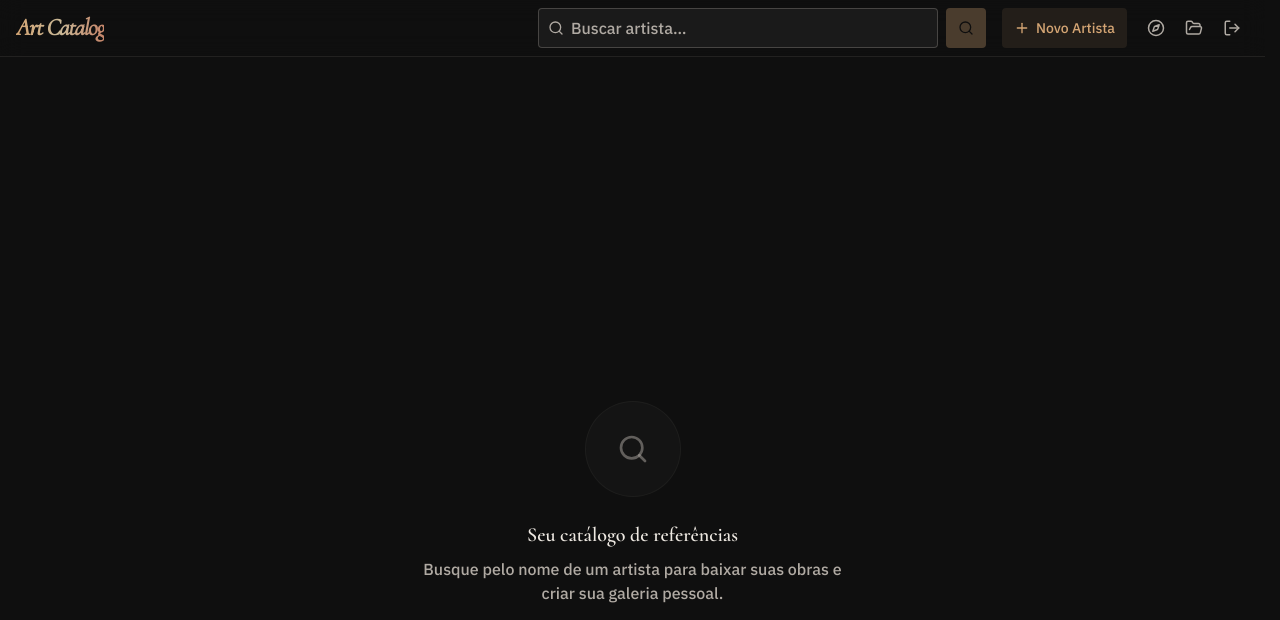
SearchPage › shows error state when search fails
The width and height of the screenshot is (1280, 620).
In the field with placeholder "Buscar artista…": (738, 28) [538,8,938,48], type "Test"
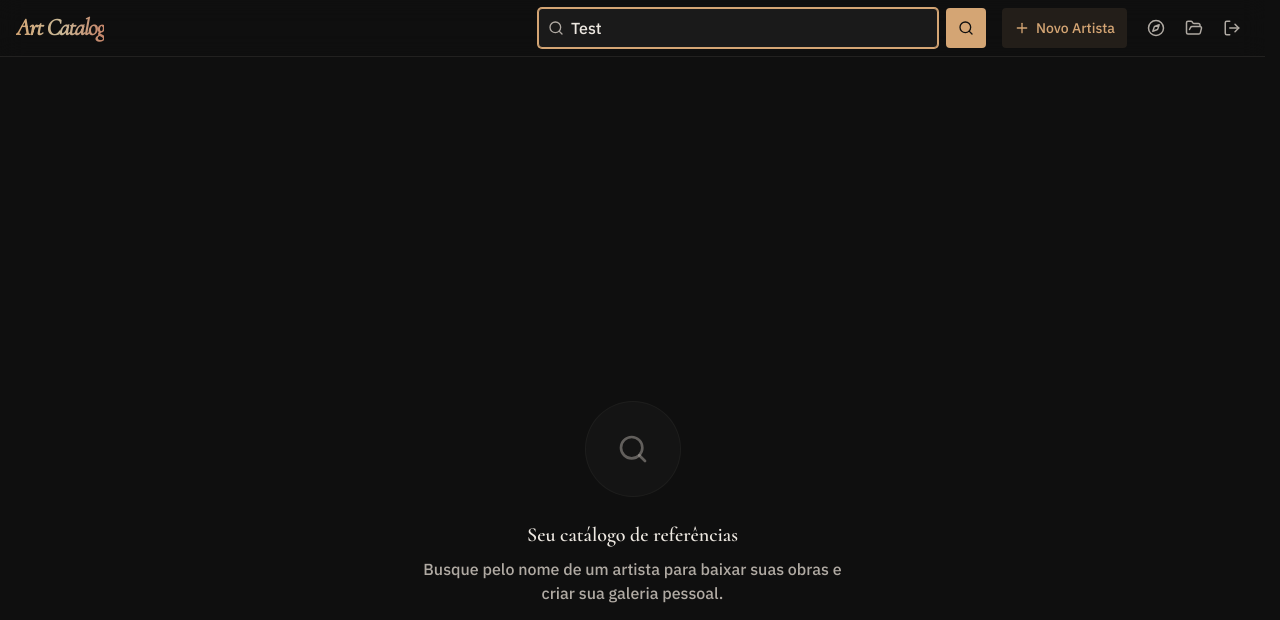
Click the button named "Buscar": (966, 28) [946,8,986,48]
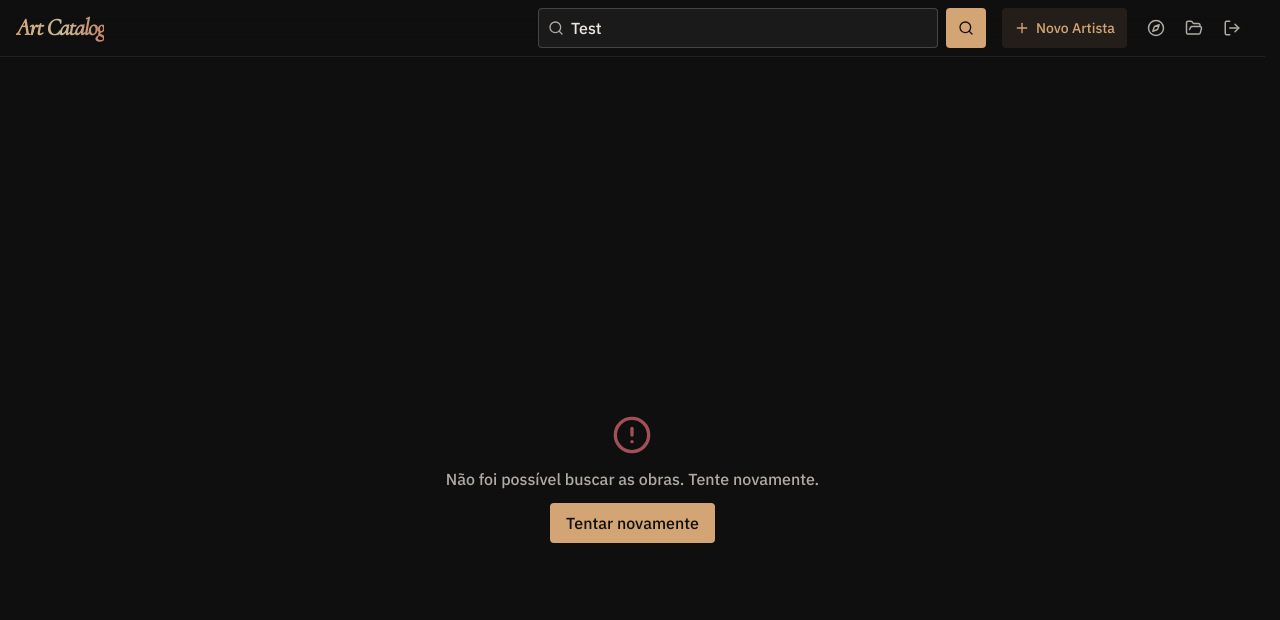
Expected: the text "Não foi possível buscar as obras. Tente novamente." is shown, [446,466,819,490]
